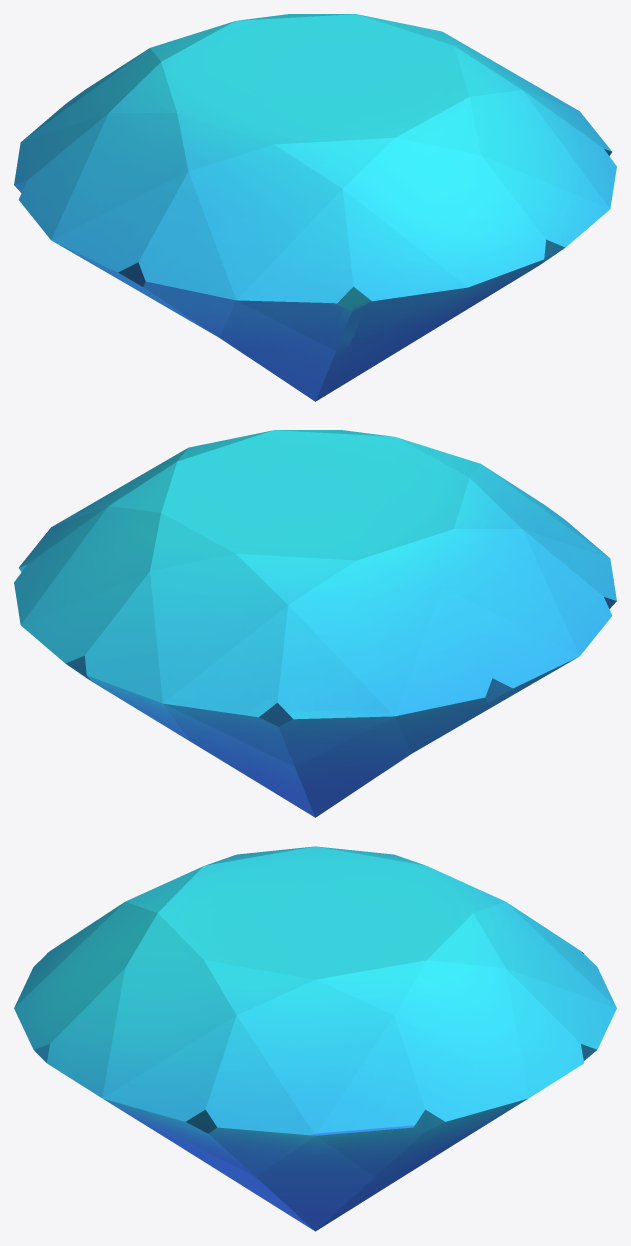
Rendered from coin.obj.
3 renders of one model, top to bottom at view 1: azimuth 30°, elevation 25°; view 2: azimuth 150°, elevation 25°; view 3: azimuth 270°, elevation 25°, orthographic.
Parts seen in each view (by area): view 1: diamond; view 2: diamond; view 3: diamond.
Boxes of the visible parts, bbox=[...] form: diamond: bbox=[14, 14, 616, 401]; diamond: bbox=[14, 430, 616, 817]; diamond: bbox=[14, 846, 616, 1231].
Size of the model in its own units: 1.46 by 0.8522 by 1.46.
1 material, 1 textured.
